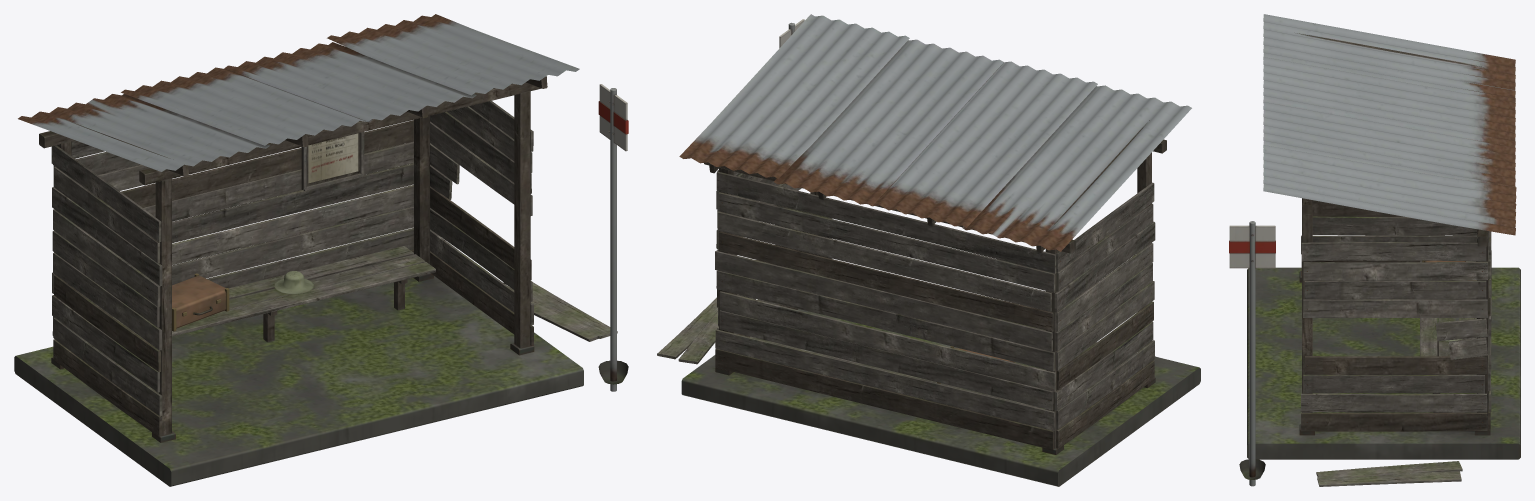
Rendered from busstop.glb.
The picture shows the model from 3 angles, left to right: view 1: azimuth 30°, elevation 25°; view 2: azimuth 150°, elevation 25°; view 3: azimuth 270°, elevation 25°; orthographic projection. The views are drawn at different scales.
Visible parts, largest first — view 1: busstop; view 2: busstop; view 3: busstop.
Boxes of the visible parts, left/top/right/bottom form: busstop: left=14, top=14, right=628, bottom=486; busstop: left=657, top=14, right=1200, bottom=486; busstop: left=1229, top=14, right=1520, bottom=486.
Bounding box in the file's own units: 4.49 × 2.86 × 2.66.
Materials: 1 (1 with a texture image).
